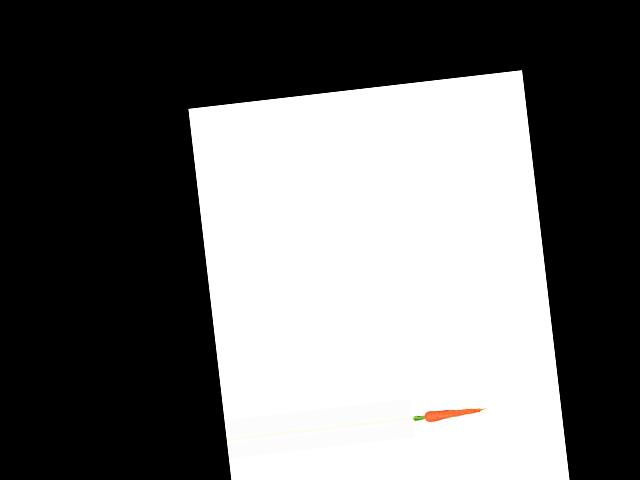carrot: (422, 401, 489, 425)
